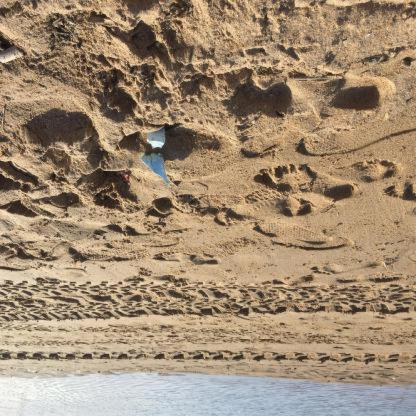Styrofoam piece: (141, 152, 170, 185), (147, 127, 165, 149)
Unlabeled litter: (116, 170, 129, 181)
